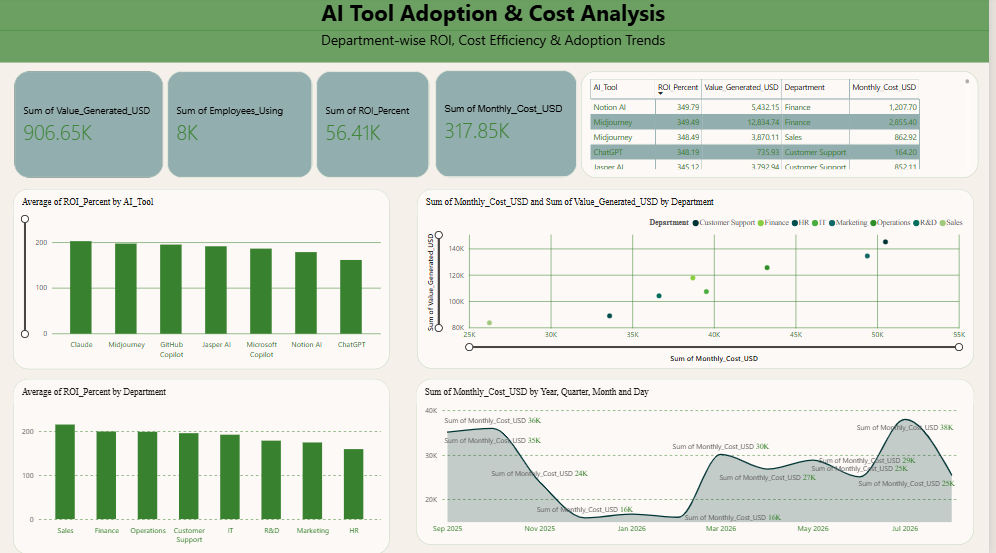

The page's visual inventory and layout, read from the dashboard file:
{"tool":"powerbi","page":{"name":"Page 1","canvas":[1920,1080],"ordinal":0},"visuals":[{"type":"clusteredColumnChart","fields":{"Category":["ai_tool_adoption_data.Department"],"Y":["Avg(ai_tool_adoption_data.ROI_Percent)"]},"box":[31.9,739.8,729.2,340.2],"z":0},{"type":"clusteredColumnChart","fields":{"Category":["ai_tool_adoption_data.AI_Tool"],"Y":["Avg(ai_tool_adoption_data.ROI_Percent)"]},"box":[31.9,372,729.2,348.7],"z":1000},{"type":"lineChart","fields":{"Category":["ai_tool_adoption_data.Month.Variation.Date Hierarchy.Year","ai_tool_adoption_data.Month.Variation.Date Hierarchy.Quarter","ai_tool_adoption_data.Month.Variation.Date Hierarchy.Month","ai_tool_adoption_data.Month.Variation.Date Hierarchy.Day"],"Y":["Sum(ai_tool_adoption_data.Monthly_Cost_USD)"]},"box":[810,739.8,1080,321],"z":2000},{"type":"scatterChart","fields":{"Series":["ai_tool_adoption_data.Department"],"X":["Sum(ai_tool_adoption_data.Monthly_Cost_USD)"],"Y":["Sum(ai_tool_adoption_data.Value_Generated_USD)"]},"box":[812.2,371.5,1077.8,347.8],"z":3000},{"type":"cardVisual","fields":{"Data":["Sum(ai_tool_adoption_data.Monthly_Cost_USD)"]},"box":[848,142,275,208],"z":4000},{"type":"cardVisual","fields":{"Data":["Sum(ai_tool_adoption_data.ROI_Percent)"]},"box":[618,143,220,207],"z":5000},{"type":"cardVisual","fields":{"Data":["Sum(ai_tool_adoption_data.Value_Generated_USD)"]},"box":[32.4,142.6,289.4,207.4],"z":6000},{"type":"cardVisual","fields":{"Data":["Sum(ai_tool_adoption_data.Employees_Using)"]},"box":[329,143,282,207],"z":7000},{"type":"textbox","box":[0,0,1920.2,64.8],"z":8000},{"type":"textbox","box":[0,64.8,1920.2,62.6],"z":9000},{"type":"tableEx","fields":{"Values":["ai_tool_adoption_data.AI_Tool","ai_tool_adoption_data.ROI_Percent","ai_tool_adoption_data.Value_Generated_USD","ai_tool_adoption_data.Department","ai_tool_adoption_data.Monthly_Cost_USD"]},"box":[1130,143,769,207],"z":10000}]}

Visuals, with their boxes in screenshot pixels (x1, y1, x2, y2), scaled from the page's 1920x1080 canvas onto the 996x553 screenshot:
clusteredColumnChart - ai_tool_adoption_data.Department x Avg(ai_tool_adoption_data.ROI_Percent): {"x1": 17, "y1": 379, "x2": 395, "y2": 552}
clusteredColumnChart - ai_tool_adoption_data.AI_Tool x Avg(ai_tool_adoption_data.ROI_Percent): {"x1": 17, "y1": 190, "x2": 395, "y2": 369}
lineChart - ai_tool_adoption_data.Month.Variation.Date Hierarchy.Year x ai_tool_adoption_data.Month.Variation.Date Hierarchy.Quarter: {"x1": 420, "y1": 379, "x2": 980, "y2": 543}
scatterChart - ai_tool_adoption_data.Department x Sum(ai_tool_adoption_data.Monthly_Cost_USD): {"x1": 421, "y1": 190, "x2": 980, "y2": 368}
cardVisual - Sum(ai_tool_adoption_data.Monthly_Cost_USD): {"x1": 440, "y1": 73, "x2": 583, "y2": 179}
cardVisual - Sum(ai_tool_adoption_data.ROI_Percent): {"x1": 321, "y1": 73, "x2": 435, "y2": 179}
cardVisual - Sum(ai_tool_adoption_data.Value_Generated_USD): {"x1": 17, "y1": 73, "x2": 167, "y2": 179}
cardVisual - Sum(ai_tool_adoption_data.Employees_Using): {"x1": 171, "y1": 73, "x2": 317, "y2": 179}
textbox: {"x1": 0, "y1": 0, "x2": 995, "y2": 33}
textbox: {"x1": 0, "y1": 33, "x2": 995, "y2": 65}
tableEx - ai_tool_adoption_data.AI_Tool x ai_tool_adoption_data.ROI_Percent: {"x1": 586, "y1": 73, "x2": 985, "y2": 179}
